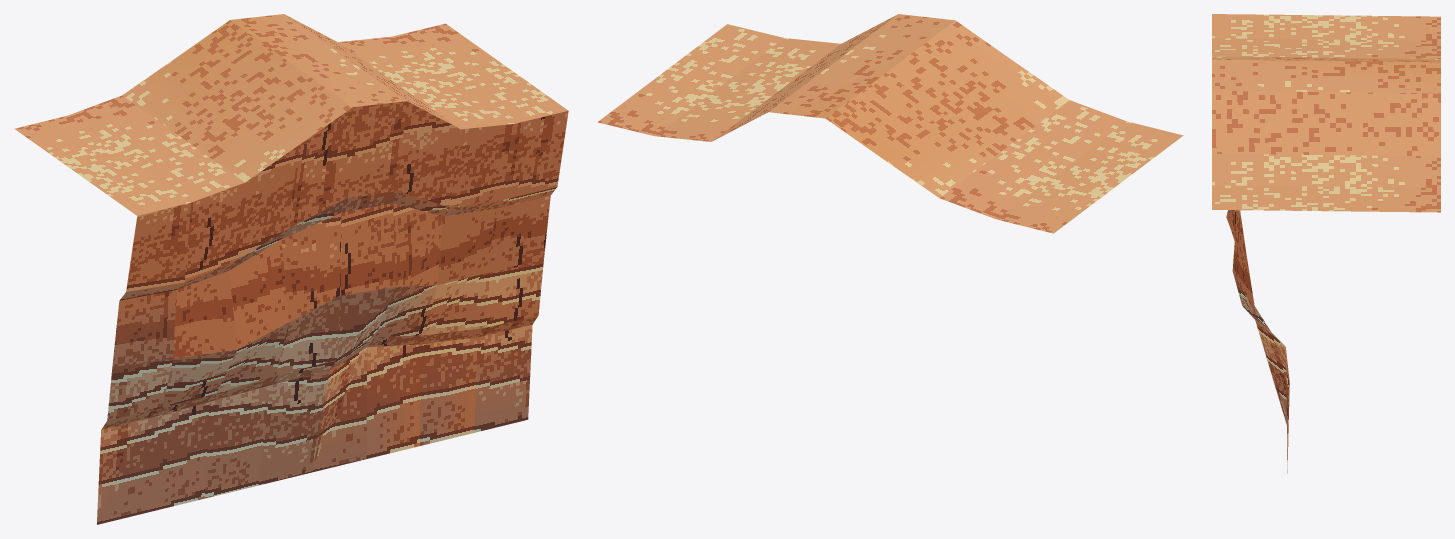
File: wland.canyon_wall__low.glb
3 views of the same model, side by side, from view 1: azimuth 30°, elevation 25°; view 2: azimuth 150°, elevation 25°; view 3: azimuth 270°, elevation 25° (orthographic). The views are drawn at different scales.
Parts seen in each view (by area): view 1: kit_shell_face, kit_shell_cap; view 2: kit_shell_cap; view 3: kit_shell_cap, kit_shell_face.
Part boxes in pixels (bbox=[...]): kit_shell_face: bbox=[97, 101, 568, 524]; kit_shell_cap: bbox=[14, 14, 568, 215]; kit_shell_cap: bbox=[598, 14, 1183, 233]; kit_shell_cap: bbox=[1212, 14, 1440, 212]; kit_shell_face: bbox=[1226, 210, 1289, 473].
Size of the model in its own units: 8 by 7 by 3.95.
Materials: 3 (3 with a texture image).
